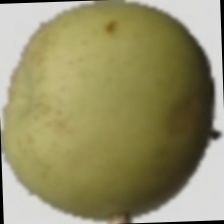apple: (44, 64, 223, 199)
